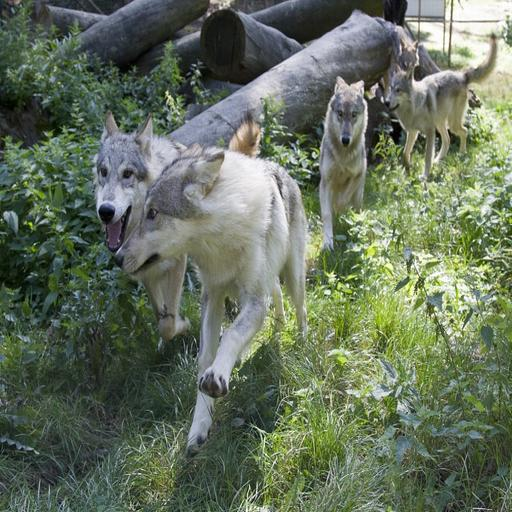Wolf: (113, 145, 312, 453), (92, 121, 277, 336), (383, 29, 498, 182), (315, 68, 374, 250)
